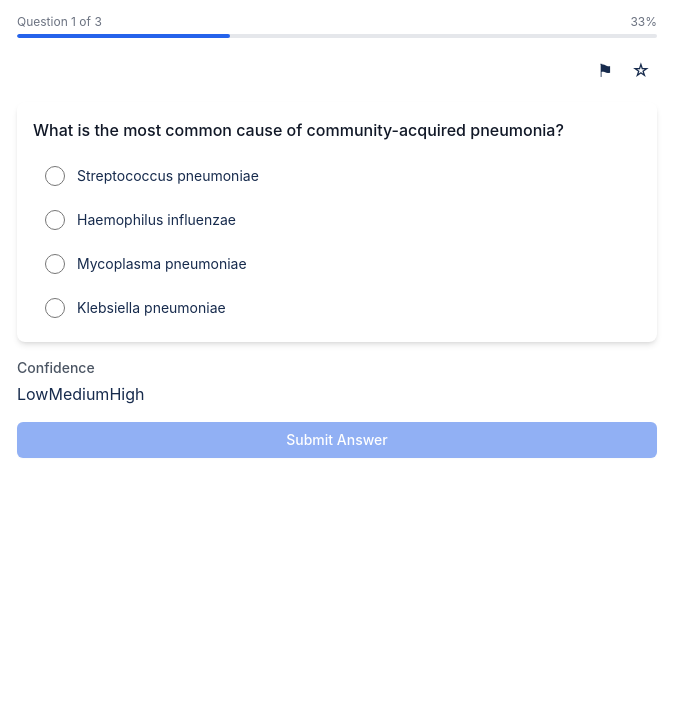
Test: SessionPage › shows answer feedback after submission
This screenshot has width=675, height=718.
expect the text with test id "question-stem" is shown: met, box [33,118,641,142]
Click the radio button showing "o1" at (55, 176), box [45,166,65,186]
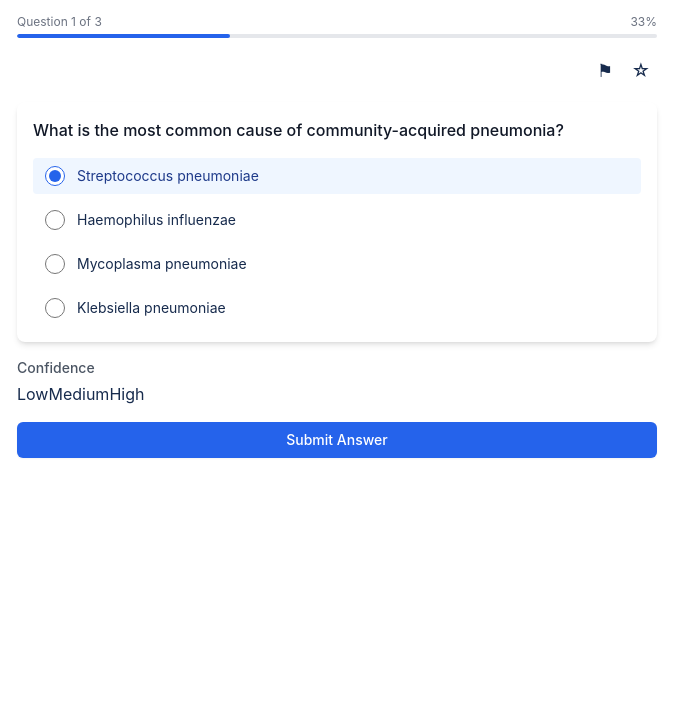
Click the button with test id "submit-button" at (337, 440), box [17,422,657,458]
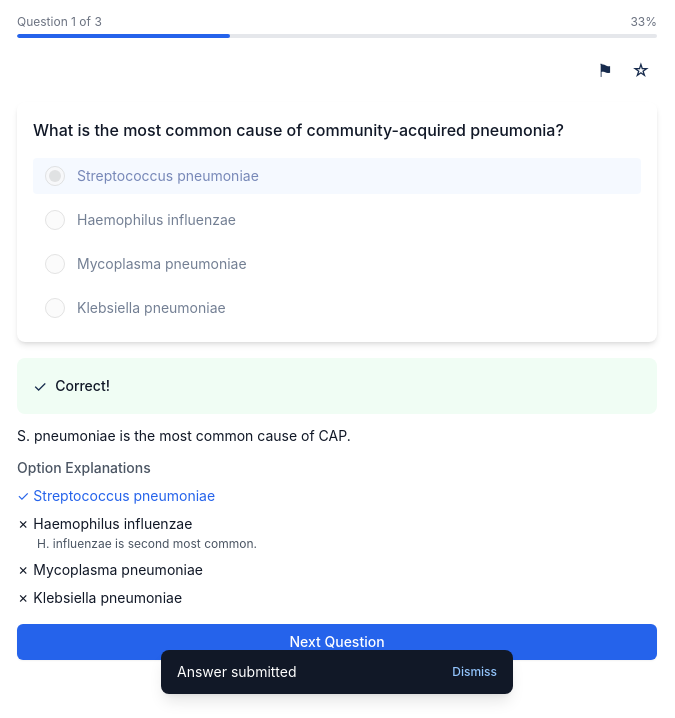
expect the element with test id "answer-feedback" is shown: met, box [17,358,657,608]
expect the text "Correct!" is shown: met, box [55,376,110,396]
expect the text "S. pneumoniae is the most common cause of CAP." is shown: met, box [17,427,351,444]
